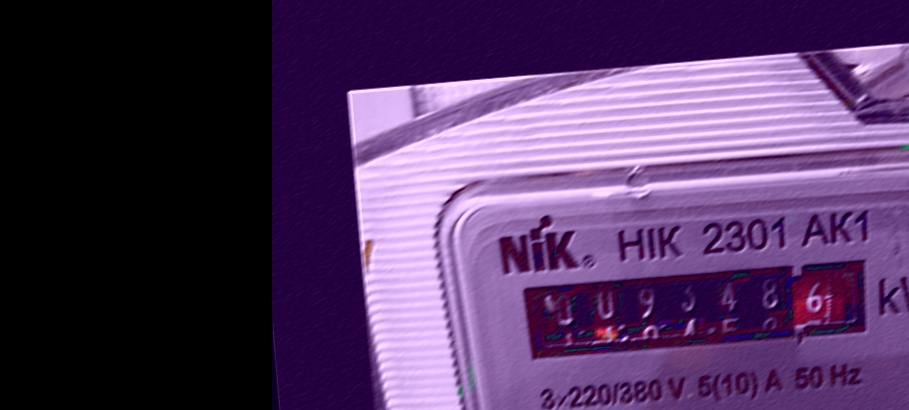0: (595, 285, 619, 323), (554, 291, 577, 327)
3: (677, 279, 701, 313)
4: (716, 276, 740, 315)
6: (804, 278, 829, 314)
8: (759, 274, 782, 310)
9: (638, 283, 659, 318)
screen: (500, 242, 893, 377)
